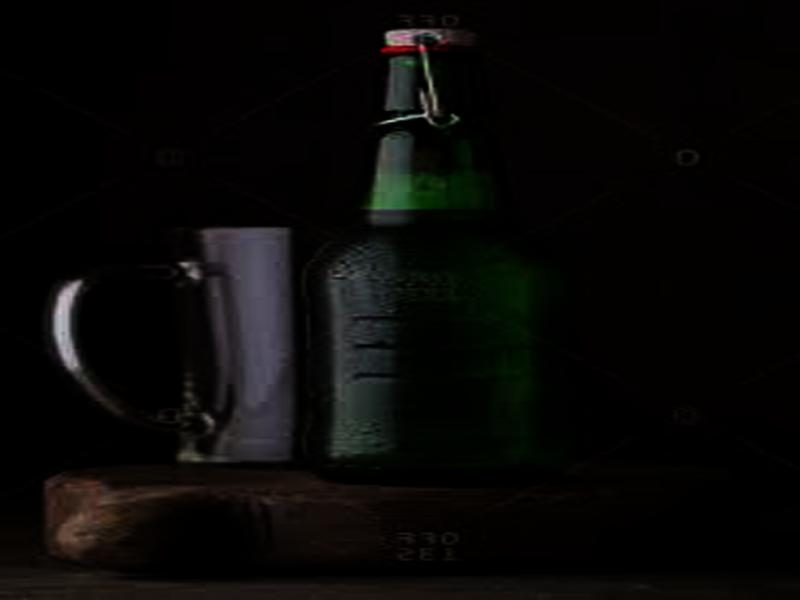Beer: (309, 28, 563, 484)
